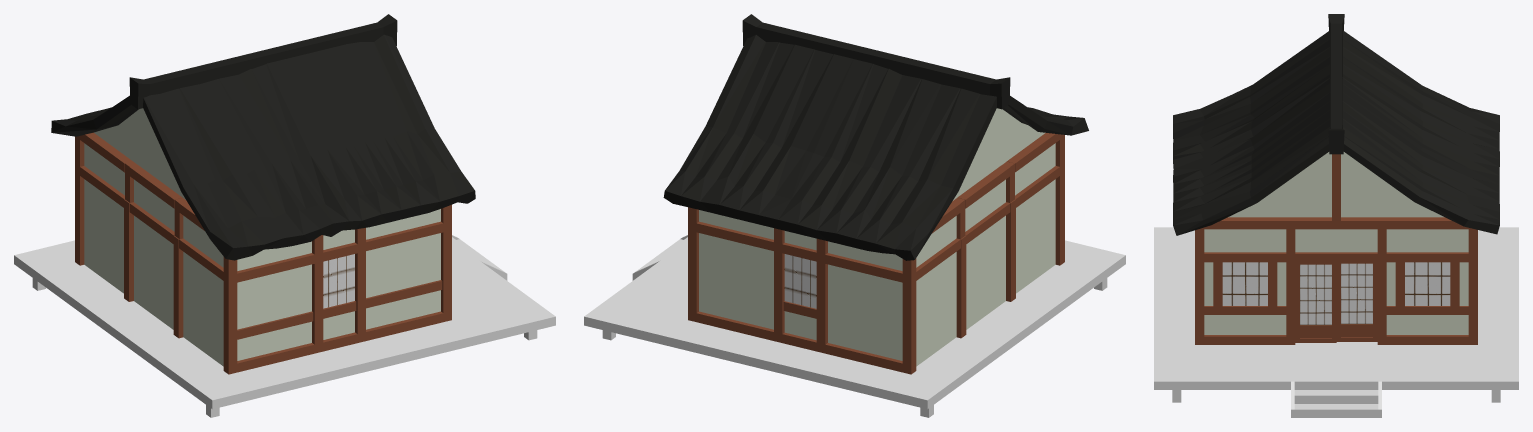
File: warehouse_LOD1.fbx
The picture shows the model from 3 angles, left to right: view 1: azimuth 30°, elevation 25°; view 2: azimuth 150°, elevation 25°; view 3: azimuth 270°, elevation 25°; orthographic projection. The views are drawn at different scales.
Parts seen in each view (by area): view 1: Plane.009, Cube.109, Cube.110, Cube.181, Cube.182, Cube.150, Cube.151, Cube.152, Cube.189, Plane.008, Cube.188, Cube.187 (+29 smaller); view 2: Plane.009, Cube.112, Cube.113, Cube.181, Cube.184, Cube.152, Cube.151, Cube.150, Cube.190, Plane.008, Cube.191, Cube.192 (+27 smaller); view 3: Plane.009, Plane.008, Cube.106, Cube.107, Cube.182, Cube.184, Cube.183, Cube.186, Cube.168, Cube.169, Cube.201, Cube.099 (+30 smaller).
Part boxes in pixels (x1,y1,x2,y2): Plane.009: (51, 34, 475, 260); Cube.109: (366, 233, 440, 329); Cube.110: (237, 264, 311, 360); Cube.181: (129, 14, 397, 109); Cube.182: (448, 280, 555, 346); Cube.150: (183, 252, 223, 366); Cube.151: (134, 215, 173, 329); Cube.152: (84, 179, 123, 293); Cube.189: (187, 363, 298, 409); Plane.008: (94, 108, 185, 199); Cube.188: (276, 342, 383, 388); Cube.187: (362, 321, 469, 367); Plane.009: (663, 35, 1088, 260); Cube.112: (699, 233, 773, 329); Cube.113: (828, 264, 902, 360); Cube.181: (742, 14, 1010, 109); Cube.184: (584, 280, 691, 346); Cube.152: (916, 252, 956, 366); Cube.151: (966, 215, 1005, 329); Cube.150: (1016, 179, 1055, 293); Cube.190: (841, 363, 952, 409); Plane.008: (953, 108, 1045, 200); Cube.191: (756, 342, 863, 388); Cube.192: (670, 321, 777, 367); Plane.009: (1173, 30, 1499, 235); Plane.008: (1228, 152, 1444, 217); Cube.106: (1204, 262, 1286, 334); Cube.107: (1386, 262, 1468, 334); Cube.182: (1154, 343, 1245, 389); Cube.184: (1427, 343, 1518, 389); Cube.183: (1336, 343, 1427, 389); Cube.186: (1245, 343, 1336, 389); Cube.168: (1295, 262, 1336, 342); Cube.169: (1336, 262, 1377, 341); Cube.201: (1291, 381, 1381, 417); Cube.099: (1295, 229, 1377, 252).
Bounding box in the file's own units: 860 × 599 × 800.
